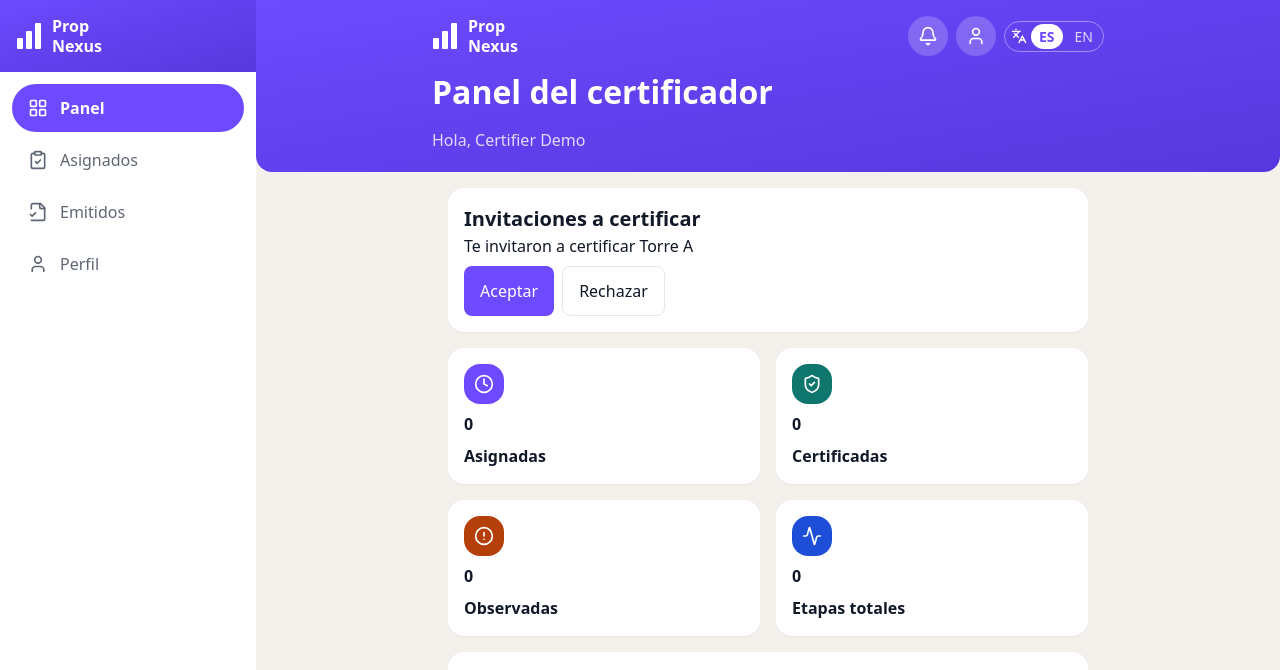
/certifier (panel) › CER-INVITATIONS-003: un error al responder muestra el mensaje con role="alert"
Click the button "Aceptar" at (509, 291), box [464,266,554,316]
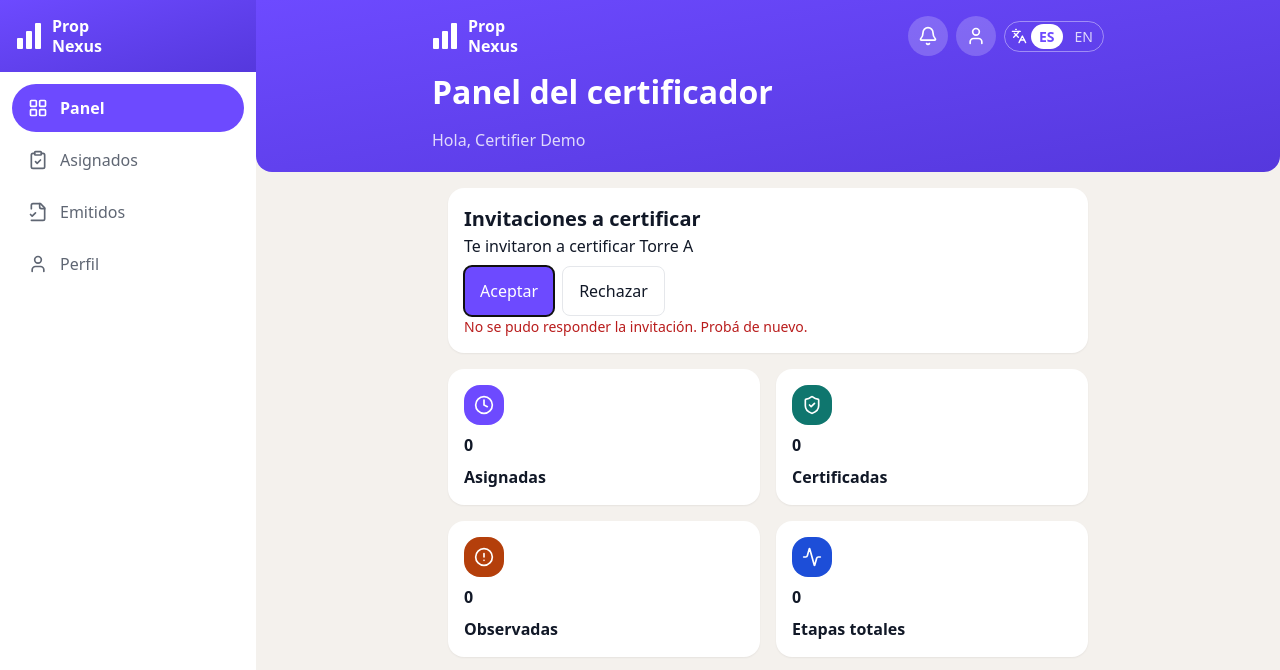
Expected: the message "No se pudo responder la invitación. Probá de nuevo." is shown, [464,317,808,336]
